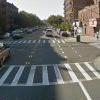Crosswalk: (7, 56, 100, 95)
